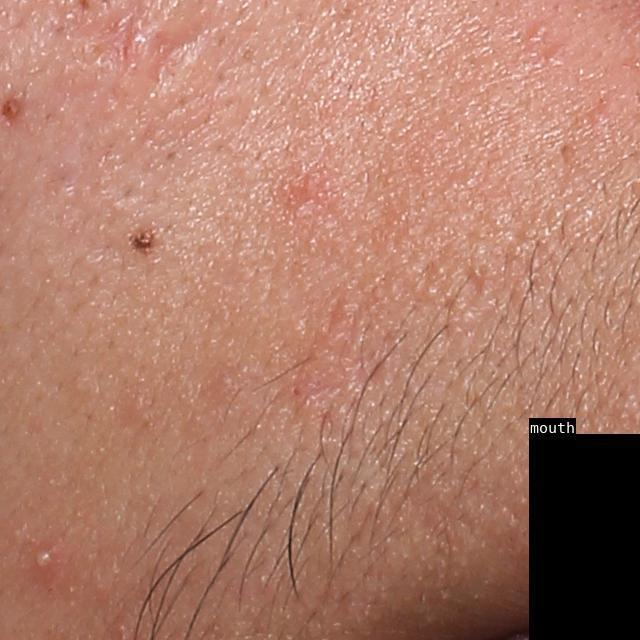atrophic_scar: (135, 9, 234, 93), (281, 165, 323, 219)
nevus: (127, 226, 164, 258)
pustule: (33, 546, 56, 569)
